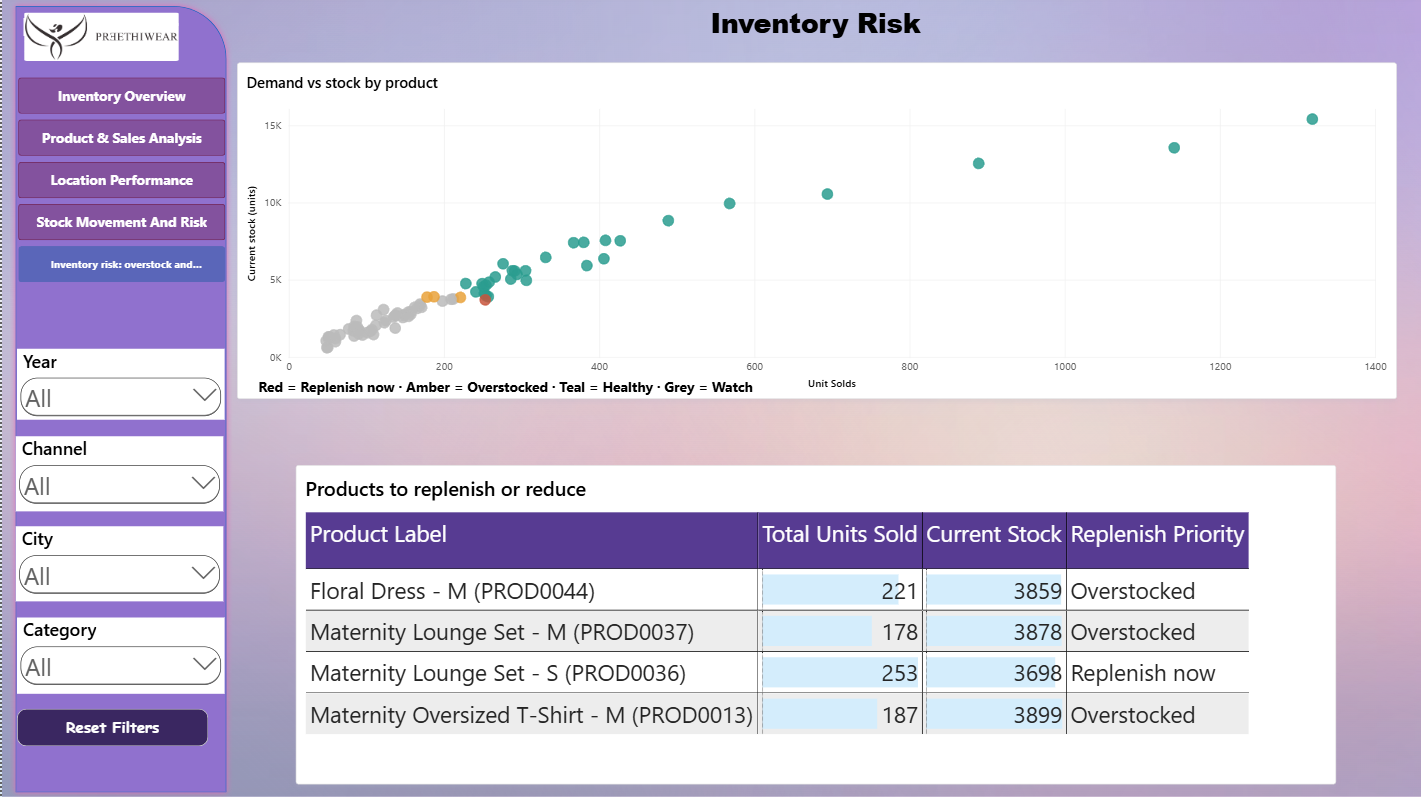

Layout of this report page (visuals, bound fields, positions):
{"tool":"powerbi","page":{"name":"Inventory risk: overstock and replenishment","canvas":[1920,1080],"ordinal":4},"visuals":[{"type":"textbox","title":"Inventory Risk","box":[315.6,4.7,1568.4,63.8],"z":1000},{"type":"shape","box":[10.3,0,301.5,1080],"z":7000},{"type":"pageNavigator","box":[21.4,104.8,280.1,278],"z":8000},{"type":"textbox","title":"Inventory Intelligence","box":[29.9,51.3,259.3,57.6],"z":9000},{"type":"textbox","title":"Preethi Wear","box":[27.8,17.1,290.2,49.4],"z":10000},{"type":"actionButton","box":[20.3,958.6,258.7,50.7],"z":19000},{"type":"image","box":[25.4,16.9,218.1,65.9],"z":20000},{"type":"tableEx","title":"Products to replenish or reduce","fields":{"Values":["Product Details.Product Label","Inventory Transactions.Total Units Sold","Inventory Transactions.Current Stock","Product Details.Replenish Priority"]},"box":[398.1,628.3,1407.5,432.1],"z":20002},{"type":"scatterChart","title":"Demand vs stock by product","fields":{"Category":["Product Details.Product Label"],"X":["Inventory Transactions.Total Units Sold"],"Y":["Inventory Transactions.Current Stock"]},"box":[317.6,84.3,1568.6,454.9],"z":20003},{"type":"textbox","box":[347.1,509.8,692.2,29.4],"z":20004},{"type":"slicer","fields":{"Values":["Date.Year"]},"box":[20.3,471.7,280.7,96.4],"z":20005},{"type":"slicer","fields":{"Values":["Inventory Locations.Channel"]},"box":[18.6,590,280.7,101.4],"z":20006},{"type":"slicer","fields":{"Values":["Inventory Locations.City"]},"box":[18.6,711.8,280.7,101.4],"z":20007},{"type":"slicer","fields":{"Values":["Product Details.category"]},"box":[20.3,835.2,280.7,103.1],"z":20008}]}

Visuals, with their boxes in screenshot pixels (x1, y1, x2, y2), scaled from the page's 1920x1080 canvas onto the 1421x797 screenshot:
"Inventory Risk" textbox: <box>234,3,1394,51</box>
shape: <box>8,0,231,796</box>
pageNavigator: <box>16,77,223,282</box>
"Inventory Intelligence" textbox: <box>22,38,214,80</box>
"Preethi Wear" textbox: <box>21,13,235,49</box>
actionButton: <box>15,707,206,745</box>
image: <box>19,12,180,61</box>
"Products to replenish or reduce" tableEx: <box>295,464,1336,783</box>
"Demand vs stock by product" scatterChart: <box>235,62,1396,398</box>
textbox: <box>257,376,769,398</box>
slicer - Date.Year: <box>15,348,223,419</box>
slicer - Inventory Locations.Channel: <box>14,435,222,510</box>
slicer - Inventory Locations.City: <box>14,525,222,600</box>
slicer - Product Details.category: <box>15,616,223,692</box>
